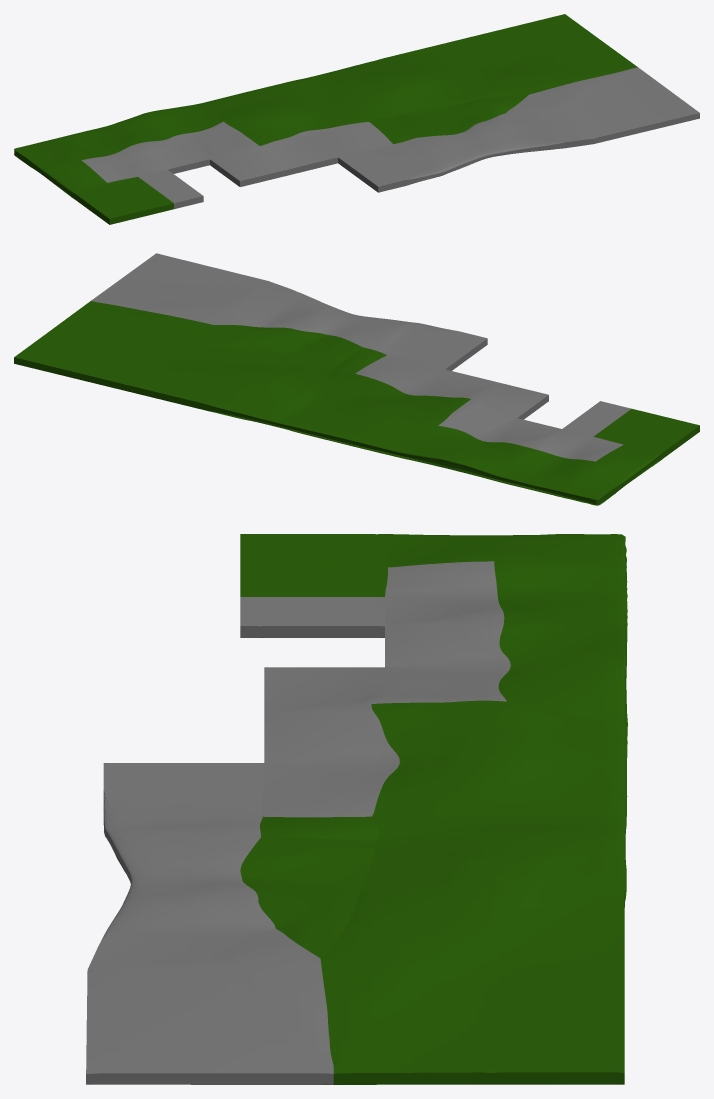
File: Entire_Scene.fbx
3 views of the same model, one above another, from view 1: azimuth 30°, elevation 25°; view 2: azimuth 150°, elevation 25°; view 3: azimuth 270°, elevation 25° (orthographic). The views are drawn at different scales.
Visible parts, largest first — view 1: Cube.014; view 2: Cube.014; view 3: Cube.014.
Boxes of the visible parts, x1,y1,x2,y2 form: Cube.014: (14, 14, 699, 224); Cube.014: (14, 253, 699, 505); Cube.014: (86, 534, 627, 1084).
Bounding box in the file's own units: 2457614 × 47850 × 1043310.
